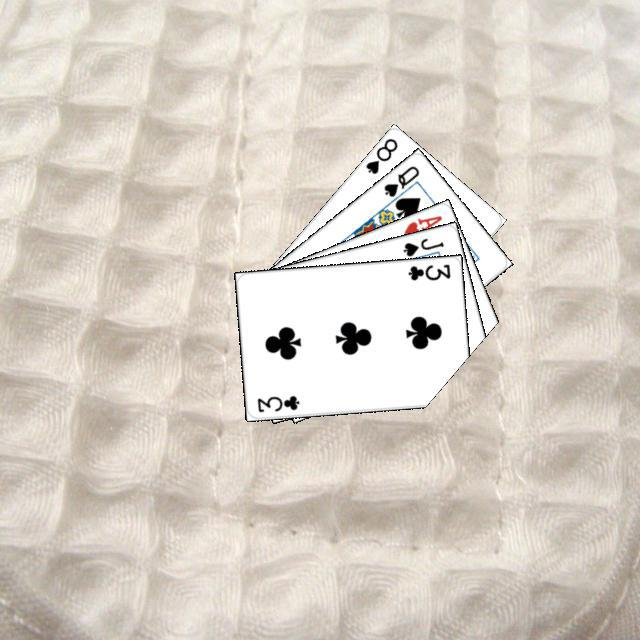3c: (403, 259, 452, 282), (252, 391, 301, 414)
8s: (361, 133, 400, 176)
Ah: (399, 210, 444, 239)
Js: (398, 233, 446, 258)
Qs: (379, 161, 421, 199)
